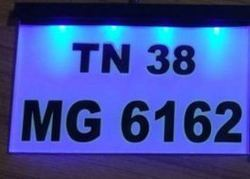number_plate: (19, 23, 249, 166)
